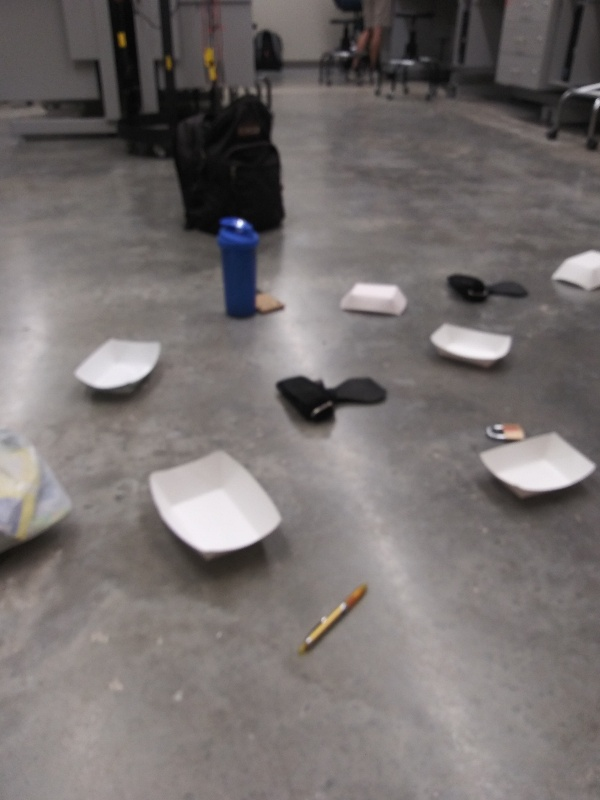plate: (144, 449, 292, 567), (474, 430, 595, 506), (71, 332, 168, 401), (425, 318, 521, 369), (337, 280, 410, 320), (549, 249, 600, 296)
